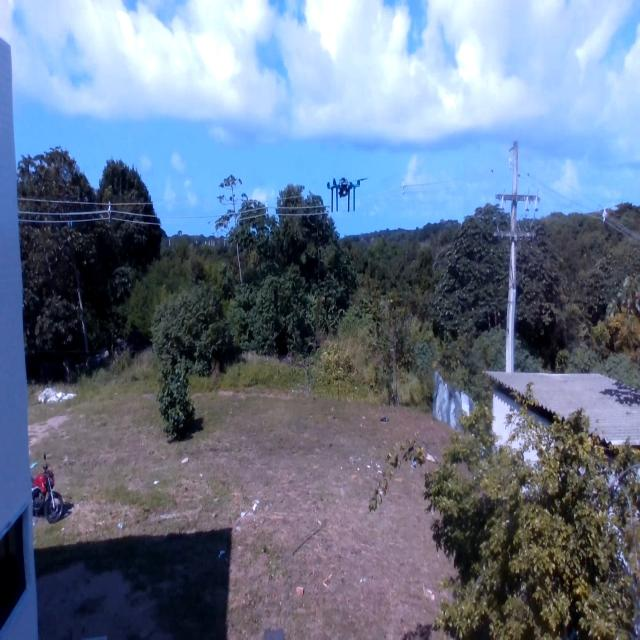-uav-: (319, 162, 373, 222)
